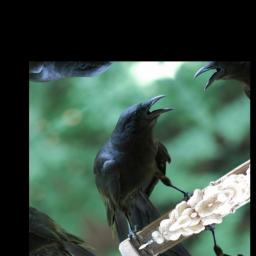Crow: (51, 87, 235, 255)
